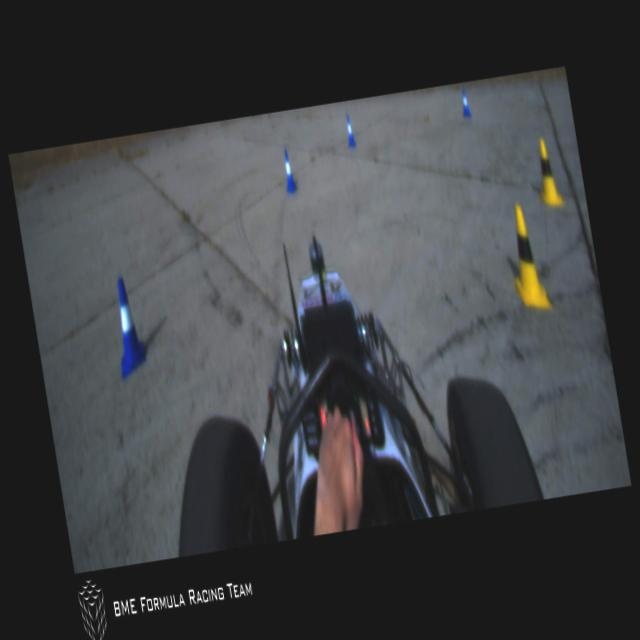blue_cone: (108, 276, 150, 380), (280, 148, 297, 192), (344, 116, 356, 148), (460, 88, 471, 118)
yellow_cone: (502, 203, 552, 313), (532, 137, 564, 207)
